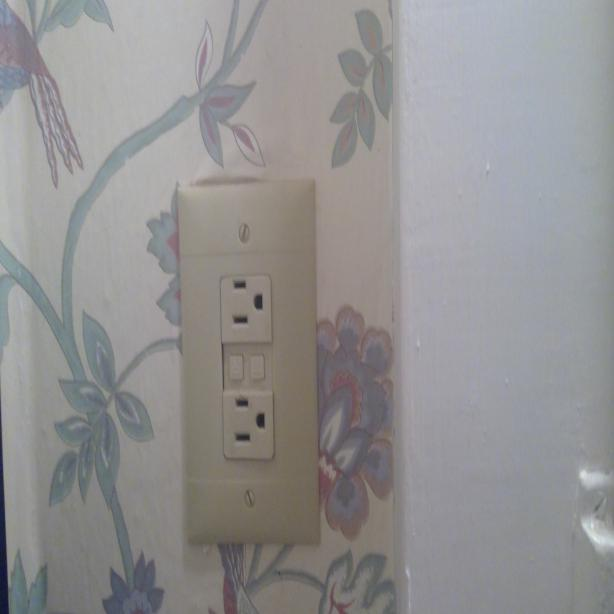typeb: (219, 272, 272, 339), (221, 396, 273, 458)
